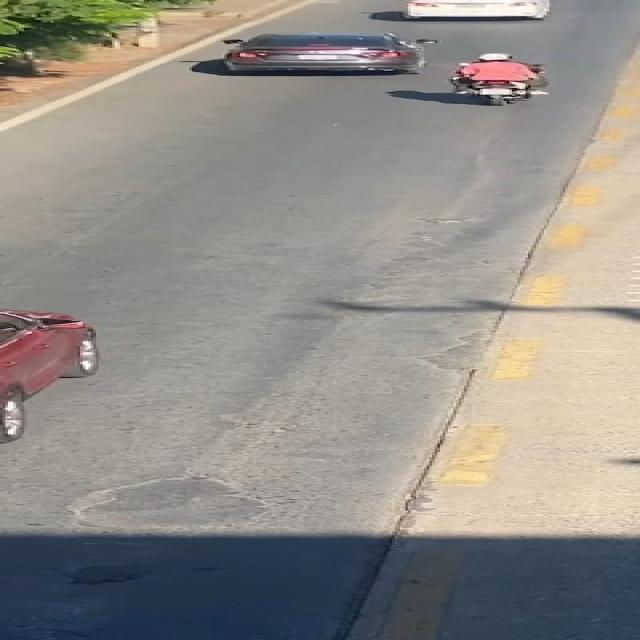car: (186, 26, 450, 77)
